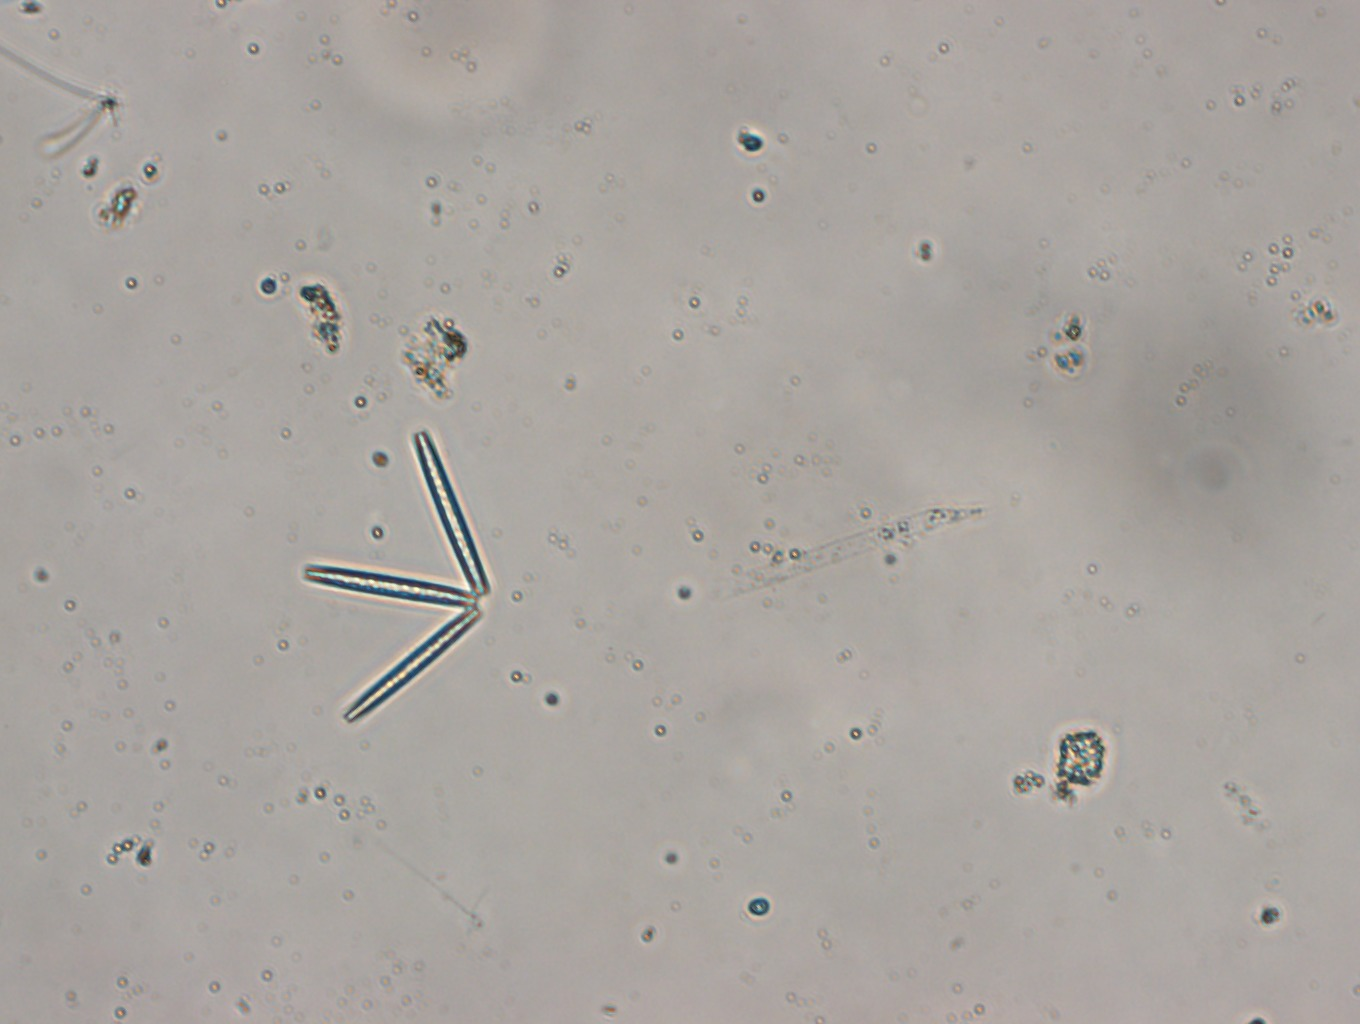thalassionema nitzschioides: (294, 425, 497, 725)
